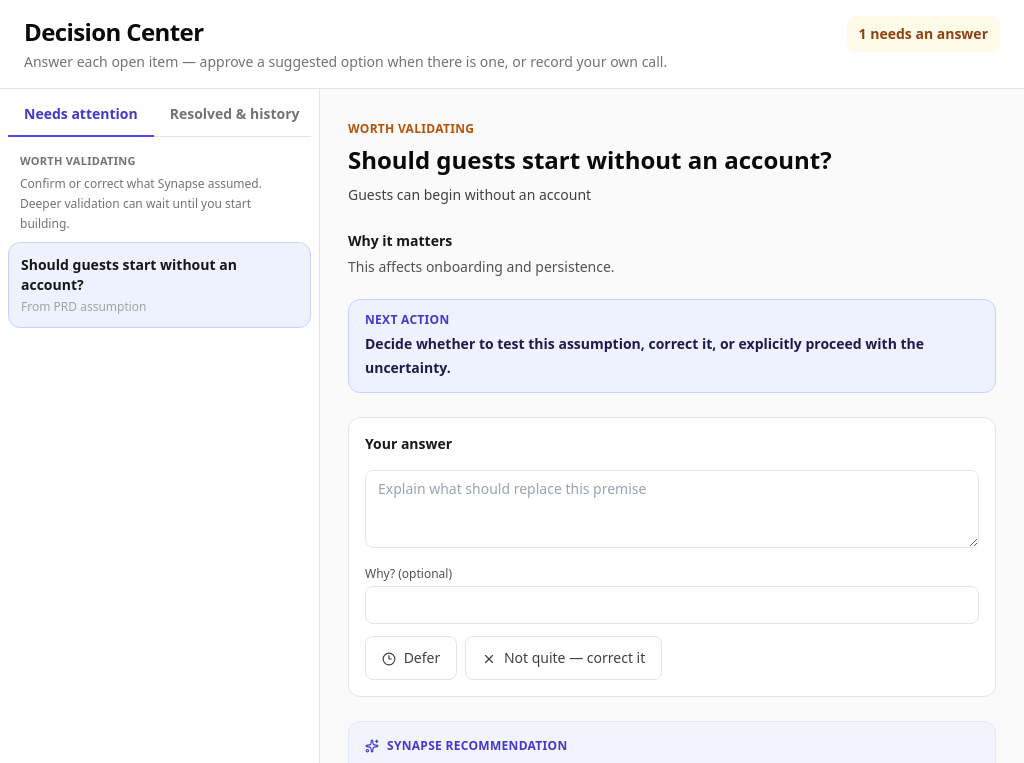
DecisionCenter › renders a relationship as ordinary rows when only one member is visible in a queue section
Expected: the button "Should guests start without an account? From PRD assumption" is shown, [8,242,311,328]
What coordinates should you click on to do the following:
click the tab "Resolved & history"
I would click on:
 (235, 115)
Its box is [154,93,316,137].
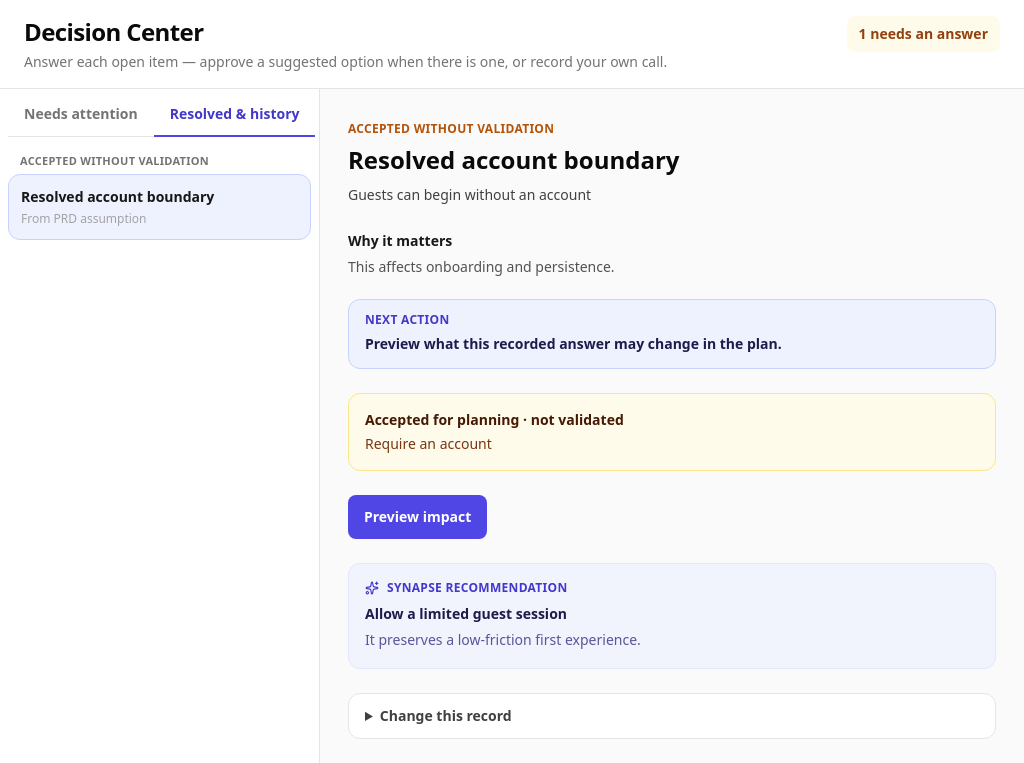
Expected: the button "Resolved account boundary From PRD assumption" is shown, [8,174,311,240]
